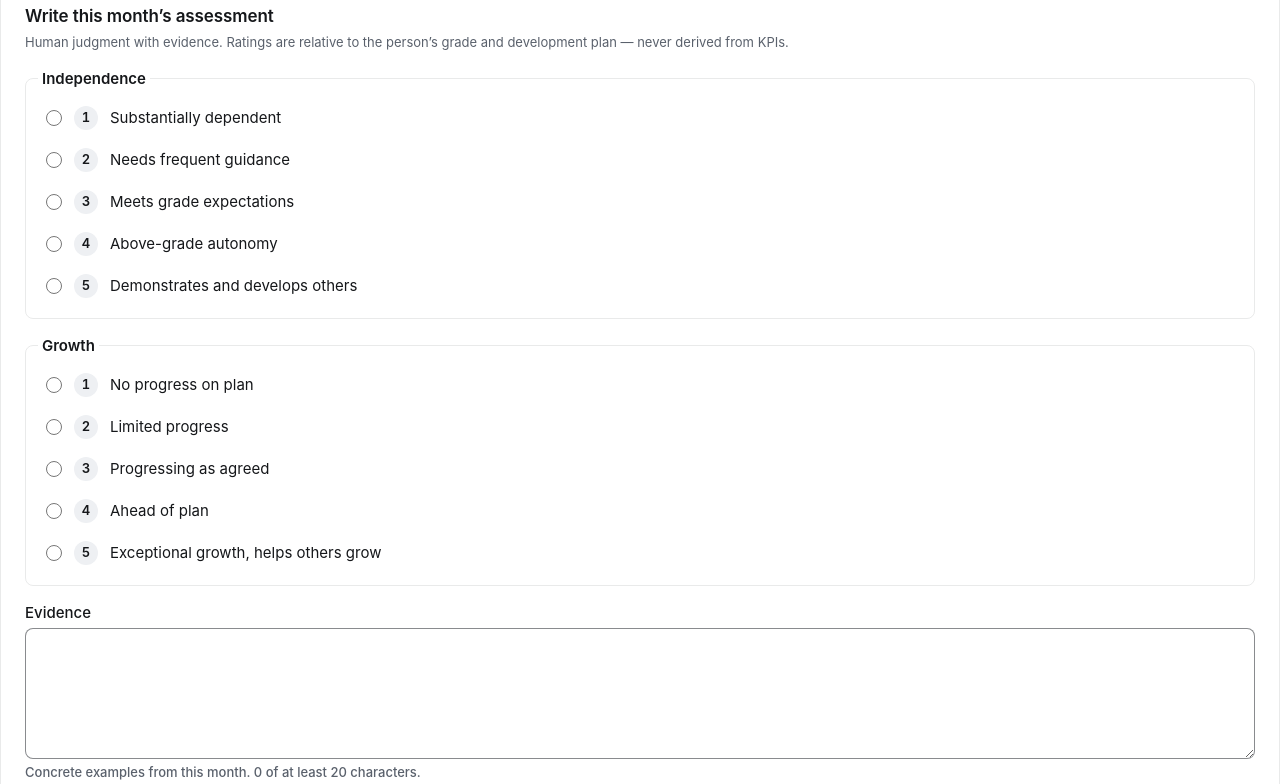
AssessmentForm › submits with the CSRF header and reports success
Click the radio button named "3: Meets grade expectations".
click(54, 202)  # box [46,194,62,210]
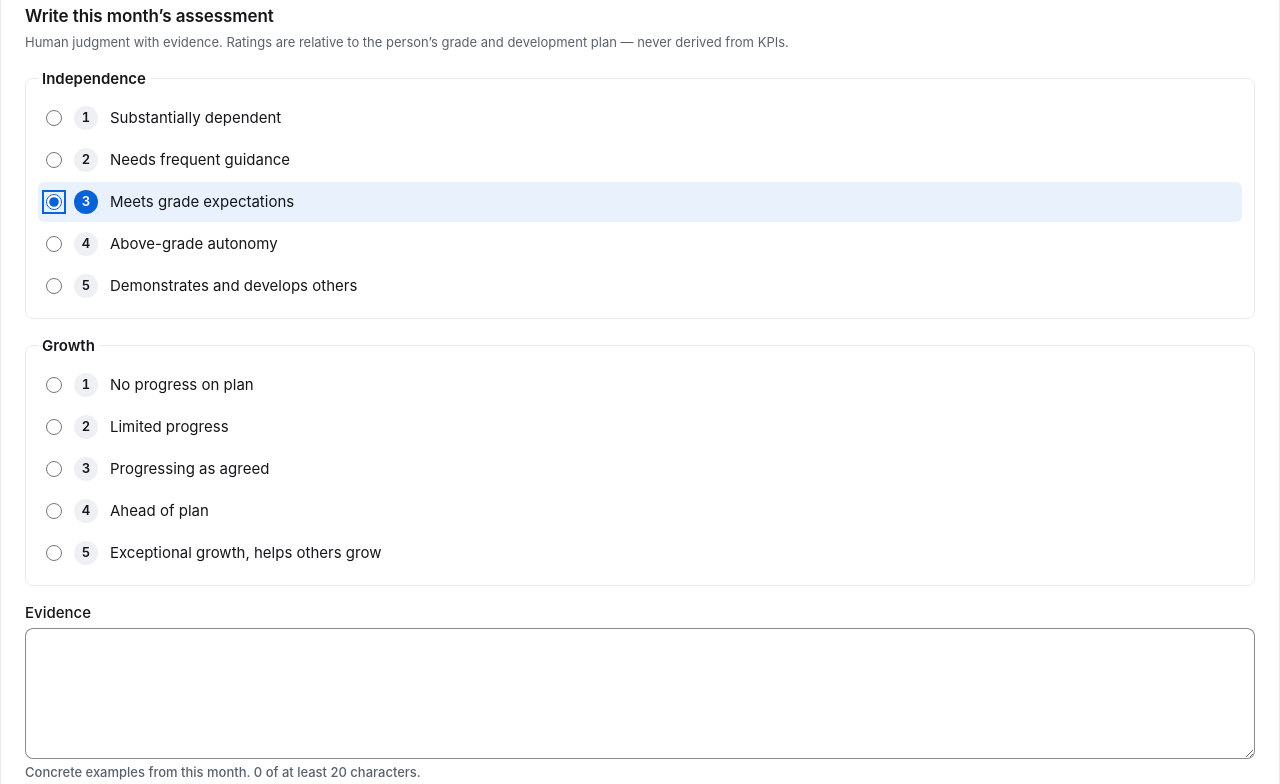
Click the radio button named "3: Progressing as agreed".
click(54, 469)  # box [46,461,62,477]
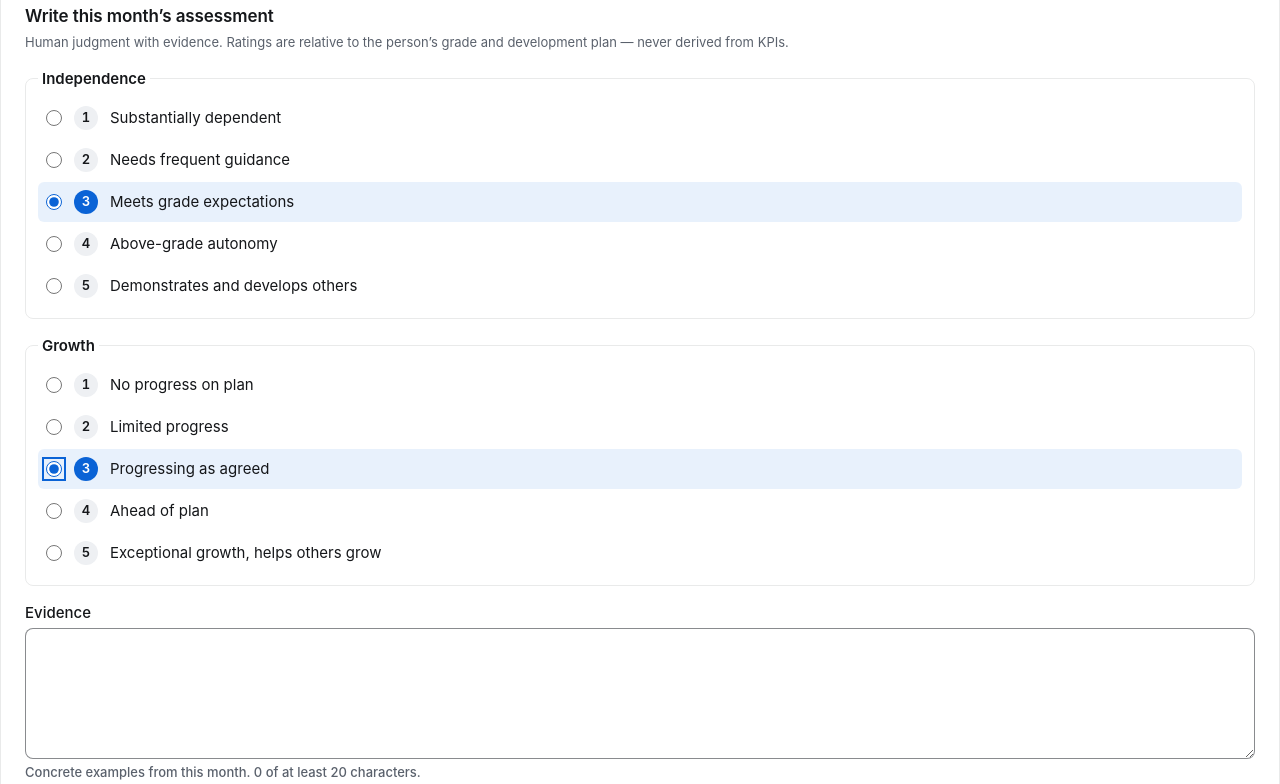
Type "Led the incident review and fixed root cause." into the text box.
click(640, 693); type("Led the incident review and fixed root cause.")  # box [25,628,1255,758]
(page scrolled)
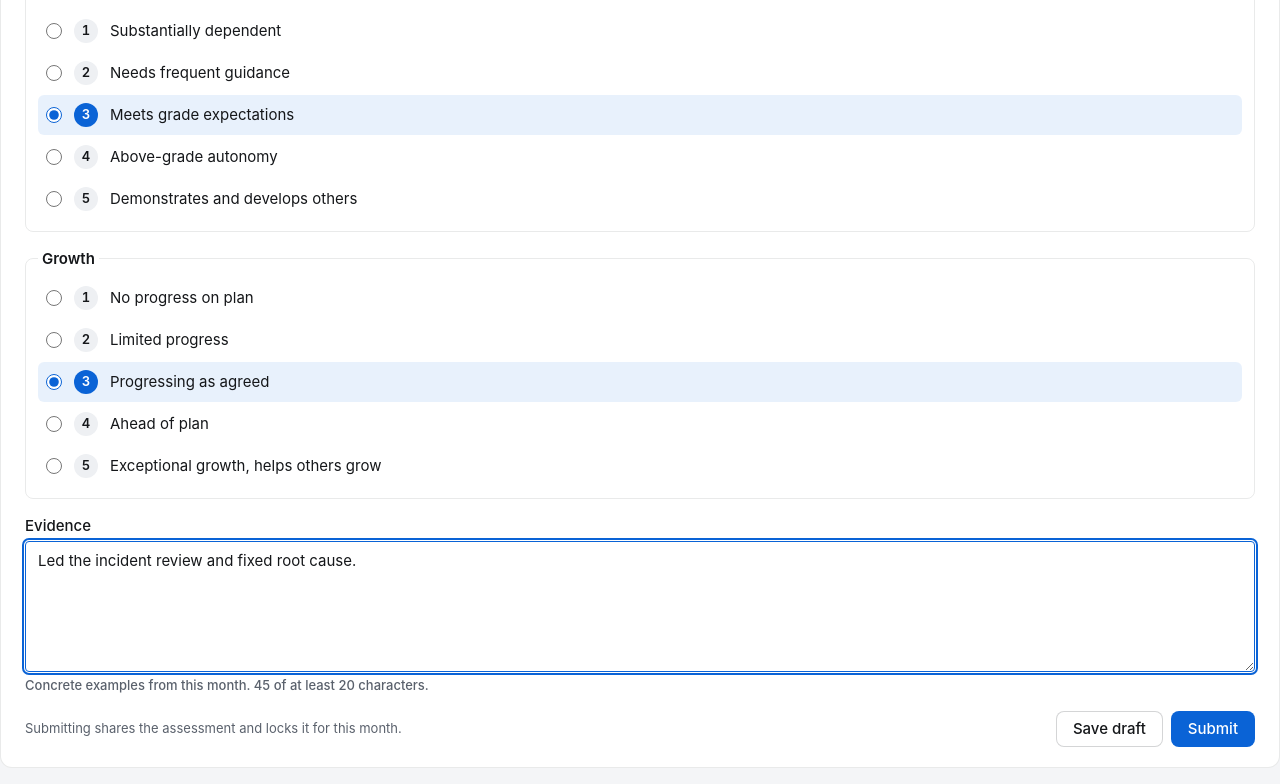
Click the button "Submit".
click(1213, 729)  # box [1171,711,1255,747]
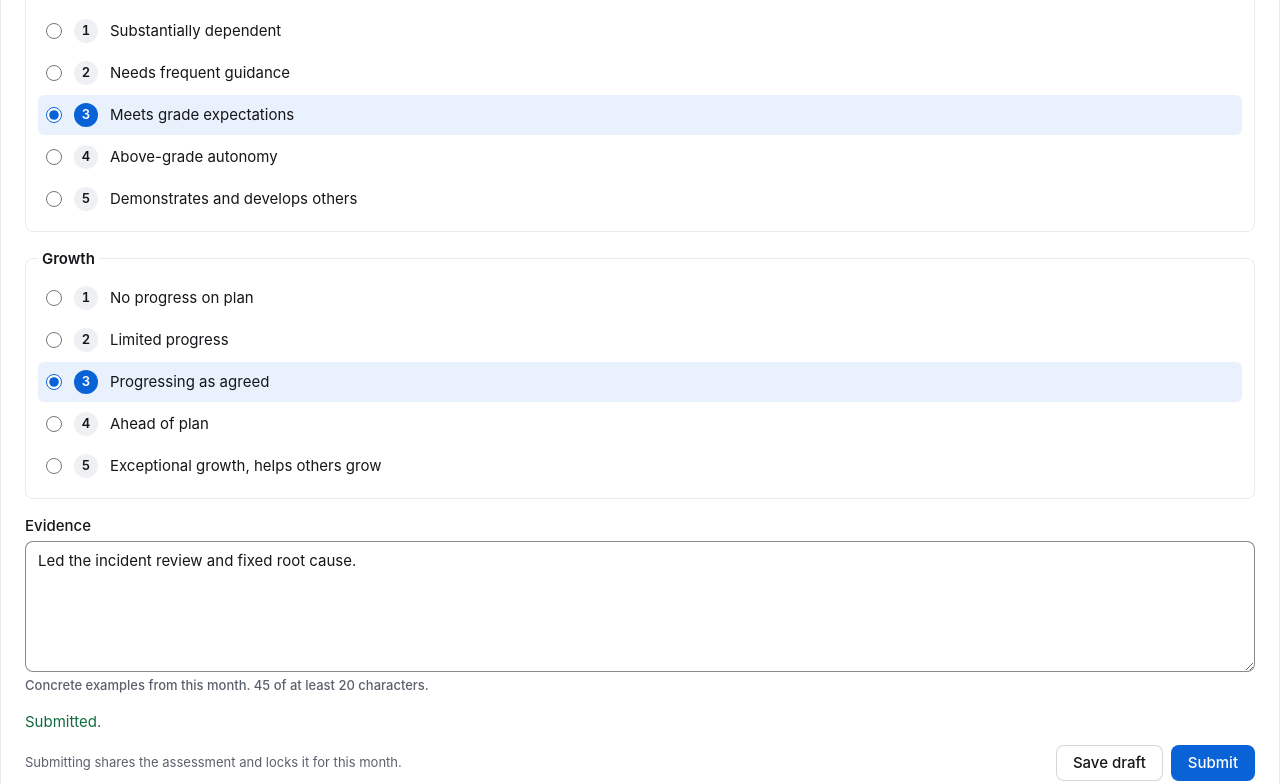
expect the text "Submitted." is shown: met, box [25,712,101,731]
